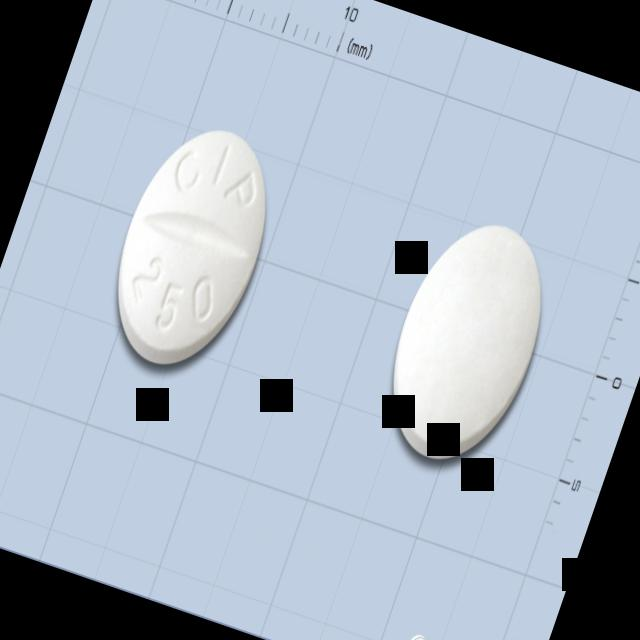Propocin Tab: (90, 112, 294, 384)
